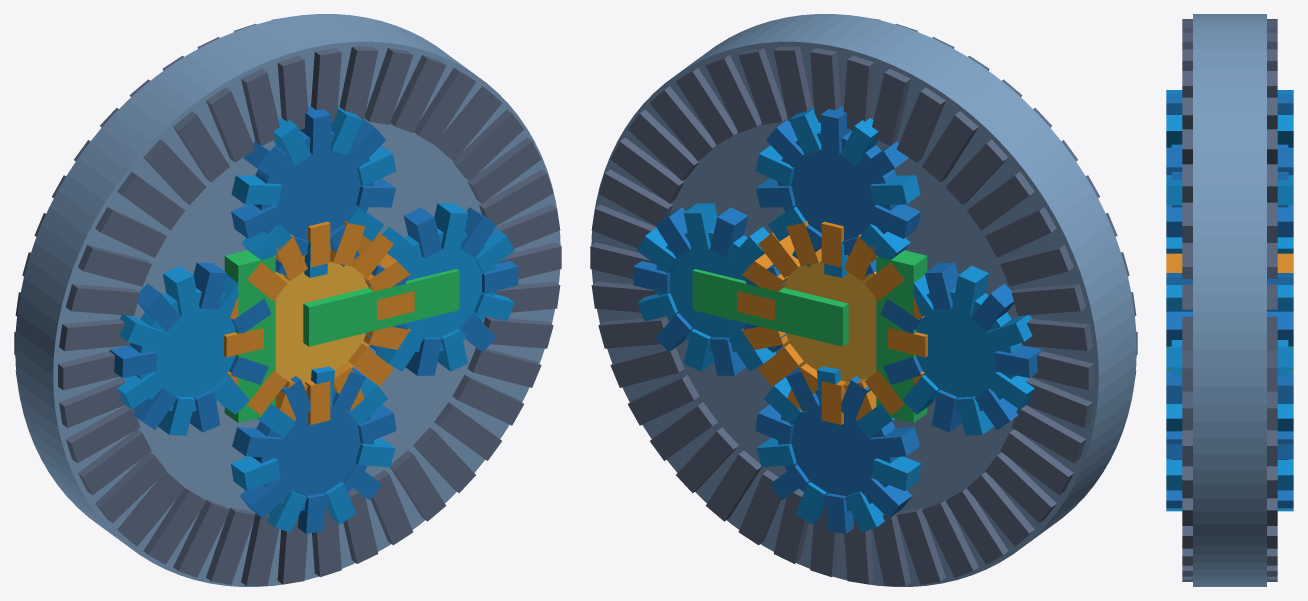
File: planetary.glb
3 renders of one model, left to right at view 1: azimuth 30°, elevation 25°; view 2: azimuth 150°, elevation 25°; view 3: azimuth 270°, elevation 25°, orthographic. The views are drawn at different scales.
Visible parts, largest first — view 1: Shape 1, Shape 76, Shape 44, Shape 91, Shape 121, Shape 106, Shape 61, Shape 122, Shape 10, Shape 123, Shape 26, Shape 31 (+96 smaller); view 2: Shape 1, Shape 76, Shape 121, Shape 44, Shape 91, Shape 106, Shape 61, Shape 122, Shape 123, Shape 10, Shape 26, Shape 31 (+96 smaller); view 3: Shape 1, Shape 64, Shape 90, Shape 119, Shape 79, Shape 62, Shape 65, Shape 75, Shape 77, Shape 3, Shape 7, Shape 78 (+27 smaller).
Boxes of the visible parts, x1=… form: Shape 1: x1=15, y1=14, x2=560, y2=586; Shape 76: x1=254, y1=130, x2=373, y2=254; Shape 44: x1=275, y1=249, x2=369, y2=383; Shape 91: x1=129, y1=288, x2=235, y2=411; Shape 121: x1=303, y1=269, x2=459, y2=346; Shape 106: x1=252, y1=389, x2=373, y2=510; Shape 61: x1=404, y1=228, x2=495, y2=351; Shape 122: x1=224, y1=250, x2=275, y2=422; Shape 10: x1=364, y1=48, x2=413, y2=124; Shape 123: x1=303, y1=269, x2=459, y2=345; Shape 26: x1=78, y1=429, x2=151, y2=495; Shape 31: x1=206, y1=507, x2=255, y2=584; Shape 1: x1=591, y1=14, x2=1136, y2=586; Shape 76: x1=778, y1=130, x2=897, y2=254; Shape 121: x1=692, y1=269, x2=848, y2=346; Shape 44: x1=782, y1=249, x2=876, y2=383; Shape 91: x1=916, y1=288, x2=1022, y2=411; Shape 106: x1=778, y1=389, x2=899, y2=510; Shape 61: x1=656, y1=228, x2=747, y2=351; Shape 122: x1=876, y1=250, x2=927, y2=422; Shape 123: x1=693, y1=269, x2=848, y2=345; Shape 10: x1=738, y1=48, x2=787, y2=124; Shape 26: x1=1000, y1=429, x2=1073, y2=495; Shape 31: x1=896, y1=507, x2=945, y2=584; Shape 1: x1=1193, y1=14, x2=1266, y2=586; Shape 64: x1=1166, y1=311, x2=1293, y2=346; Shape 90: x1=1166, y1=205, x2=1293, y2=237; Shape 119: x1=1166, y1=459, x2=1293, y2=490; Shape 79: x1=1166, y1=115, x2=1293, y2=147; Shape 62: x1=1166, y1=369, x2=1293, y2=403; Shape 65: x1=1166, y1=285, x2=1293, y2=311; Shape 75: x1=1166, y1=404, x2=1293, y2=431; Shape 77: x1=1166, y1=176, x2=1293, y2=205; Shape 3: x1=1182, y1=351, x2=1277, y2=391; Shape 7: x1=1182, y1=202, x2=1277, y2=242; Shape 78: x1=1166, y1=147, x2=1293, y2=175.
Size of the model in its own units: 0.108 by 0.108 by 0.024.
